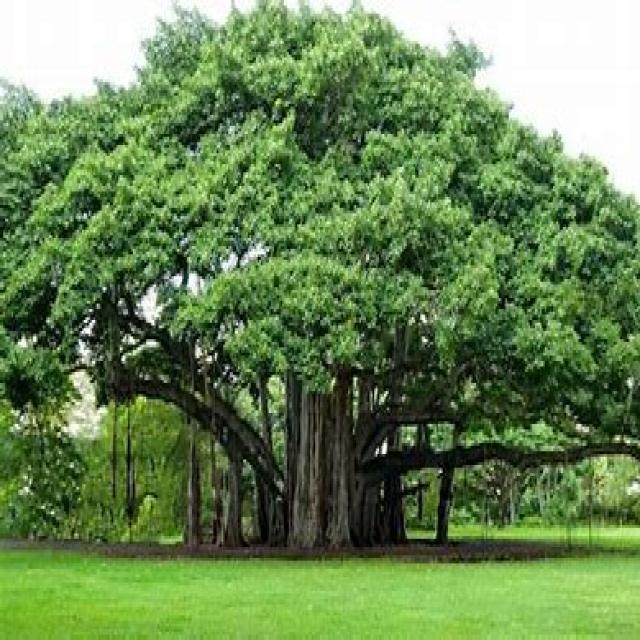Banyan-Tree: (0, 0, 640, 640), (0, 209, 640, 571)
